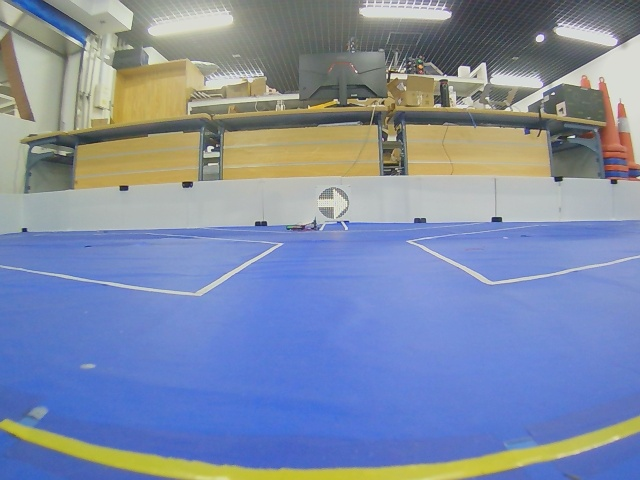right_yellow: (317, 187, 350, 220)
